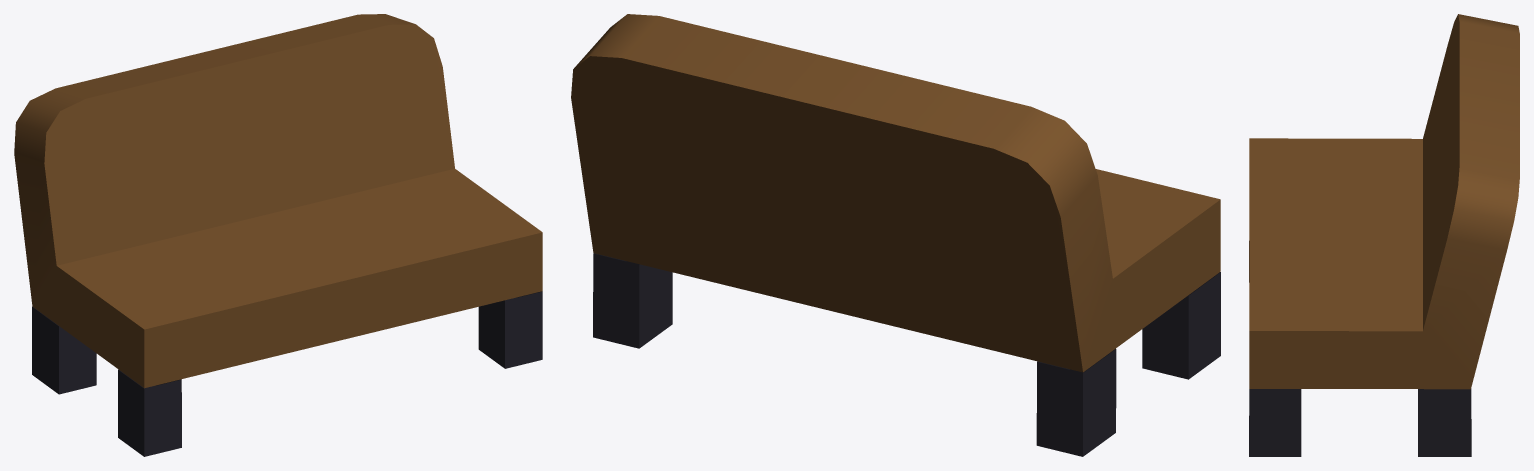
File: bench_02.fbx
The picture shows the model from 3 angles, left to right: view 1: azimuth 30°, elevation 25°; view 2: azimuth 150°, elevation 25°; view 3: azimuth 270°, elevation 25°; orthographic projection. The views are drawn at different scales.
Parts seen in each view (by area): view 1: bench_02; view 2: bench_02; view 3: bench_02.
Boxes of the visible parts, box(x1,y1,x2,y2) form: bench_02: box(14, 14, 542, 456); bench_02: box(571, 14, 1220, 456); bench_02: box(1249, 14, 1519, 456).
Bounding box in the file's own units: 112 × 72.43 × 66.75.
